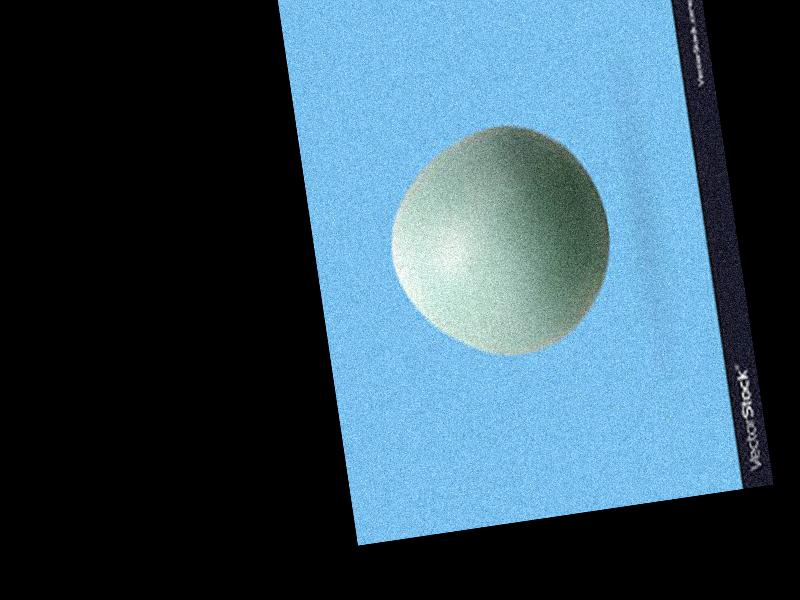Eggs: (375, 110, 623, 370)
